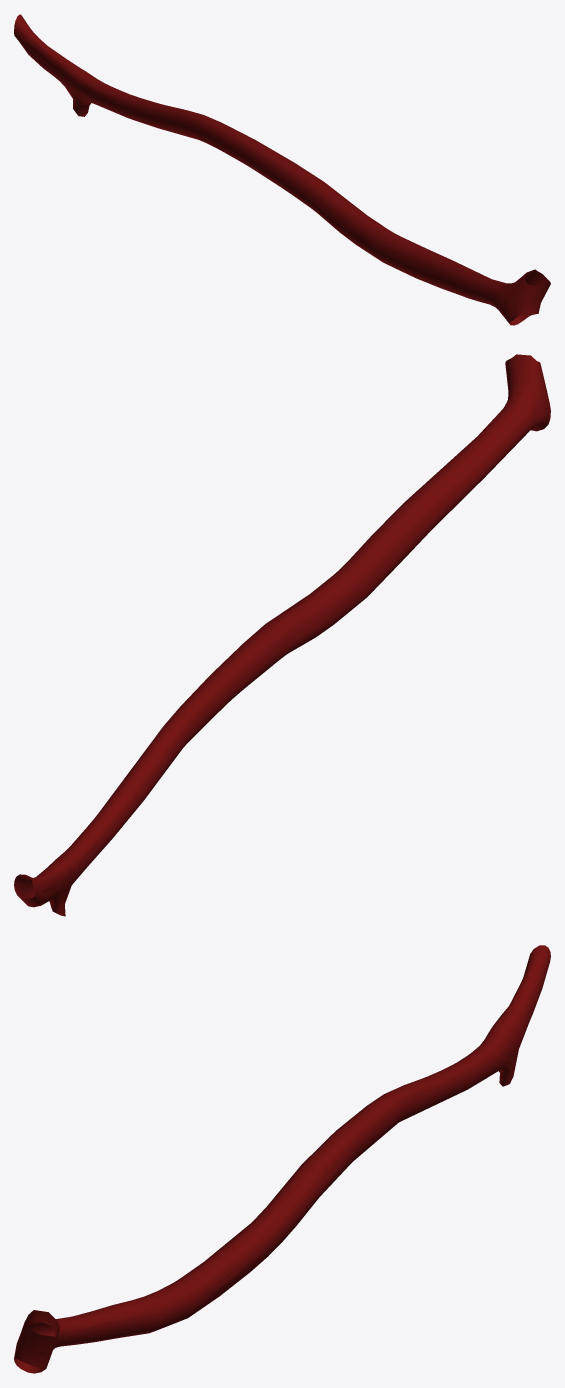
Rendered from L carotis communis.fbx.
The picture shows the model from 3 angles, top to bottom: view 1: azimuth 30°, elevation 25°; view 2: azimuth 150°, elevation 25°; view 3: azimuth 330°, elevation 25°; orthographic projection. The views are drawn at different scales.
Visible parts, largest first — view 1: L carotis communis, L carotis communis high, L carotis communis low; view 2: L carotis communis, L carotis communis high, L carotis communis low; view 3: L carotis communis, L carotis communis low, L carotis communis high.
Part boxes in pixels (<box>): L carotis communis: <box>14,14,550,325</box>; L carotis communis high: <box>15,16,550,325</box>; L carotis communis low: <box>21,16,550,324</box>; L carotis communis: <box>14,355,550,916</box>; L carotis communis high: <box>14,356,546,907</box>; L carotis communis low: <box>14,354,548,915</box>; L carotis communis: <box>14,945,550,1373</box>; L carotis communis low: <box>15,948,548,1372</box>; L carotis communis high: <box>14,946,548,1373</box>.
Size of the model in its own units: 2.82 by 4.18 by 26.65.
